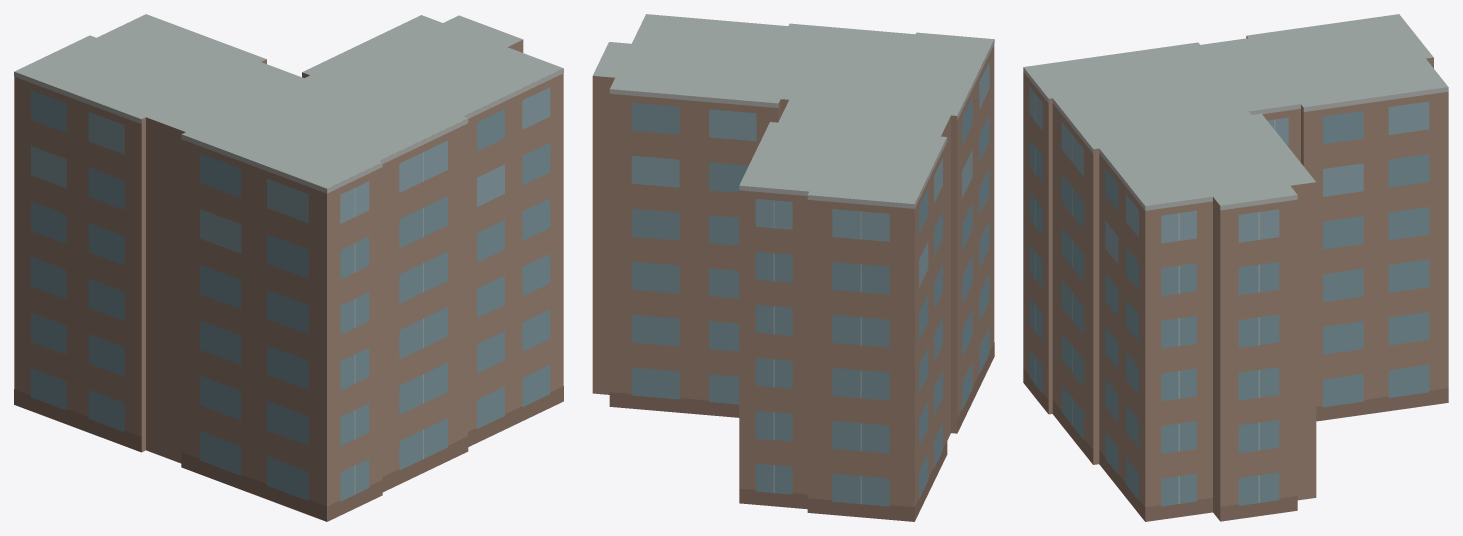
File: survey-upis-32920564.glb
3 renders of one model, left to right at view 1: azimuth 30°, elevation 25°; view 2: azimuth 150°, elevation 25°; view 3: azimuth 270°, elevation 25°, orthographic. The views are drawn at different scales.
Visible parts, largest first — view 1: survey-upis-32920564.tmp; view 2: survey-upis-32920564.tmp; view 3: survey-upis-32920564.tmp.
Boxes of the visible parts, x1=… form: survey-upis-32920564.tmp: x1=14, y1=14, x2=563, y2=521; survey-upis-32920564.tmp: x1=592, y1=14, x2=994, y2=521; survey-upis-32920564.tmp: x1=1023, y1=14, x2=1448, y2=521.
Bounding box in the file's own units: 21.68 × 16.6 × 20.27.
